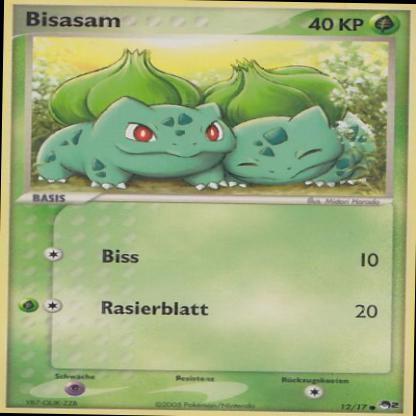Bulbasaur: (34, 46, 379, 196)
